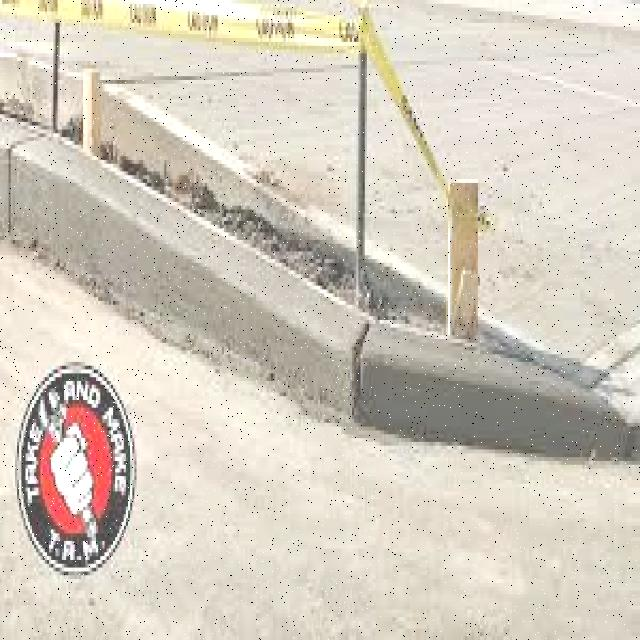curb: (9, 128, 376, 425), (354, 315, 638, 457)
